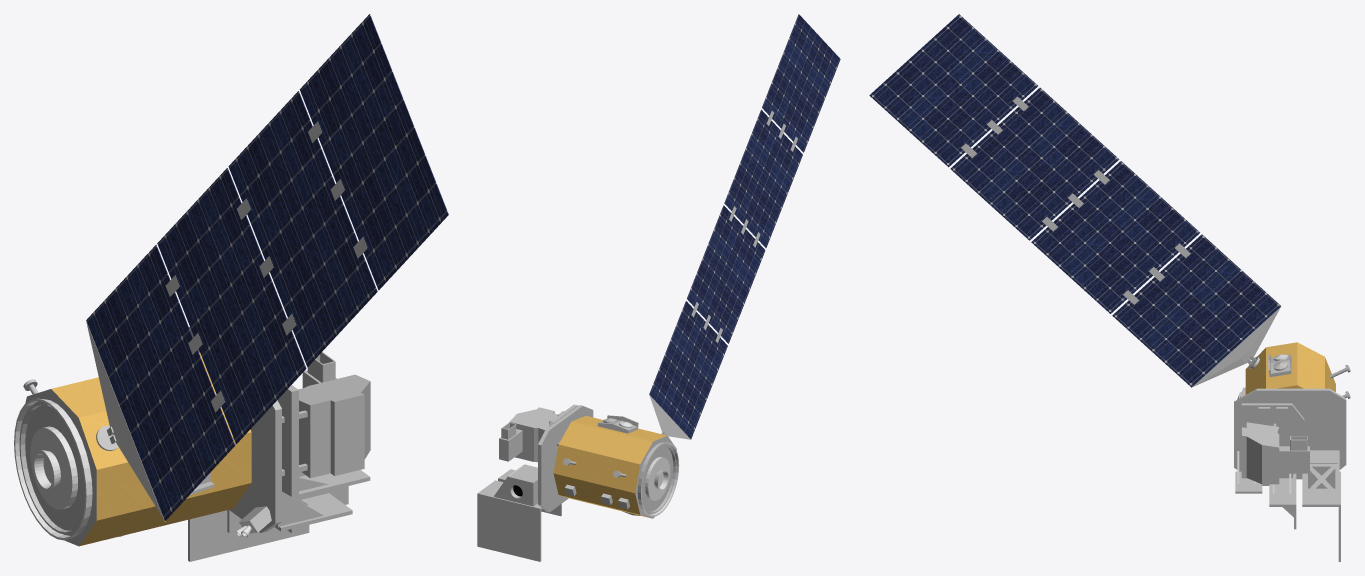
Rendered from landsat.glb.
The picture shows the model from 3 angles, left to right: view 1: azimuth 30°, elevation 25°; view 2: azimuth 150°, elevation 25°; view 3: azimuth 270°, elevation 25°; orthographic projection. The views are drawn at different scales.
Visible parts, largest first — view 1: Cube.009, Cylinder, Cube.017, Cube, Cube.005, Cylinder.011, Cylinder.009, Cube.007, Cube.020, Cube.039, Cube.001, Cylinder.008 (+6 smaller); view 2: Cube.009, Cylinder, Cube.005, Cube, Cube.017, Cube.016, Cylinder.011, Cylinder.009, Cube.007, Cube.018, Cube.039; view 3: Cube.009, Cube, Cylinder, Cube.017, Cube.020, Cube.007, Cube.039, Cube.016, Cube.018, Cube.008, Cube.002.
Boxes of the visible parts, <box> form: Cube.009: <box>86,14,448,520</box>; Cylinder: <box>25,352,251,546</box>; Cube.017: <box>298,374,370,478</box>; Cube: <box>189,327,281,532</box>; Cube.005: <box>188,510,309,561</box>; Cylinder.011: <box>30,426,77,509</box>; Cylinder.009: <box>14,398,92,540</box>; Cube.007: <box>86,321,165,521</box>; Cube.020: <box>277,385,298,533</box>; Cube.039: <box>165,121,367,412</box>; Cube.001: <box>275,493,352,531</box>; Cylinder.008: <box>19,403,84,534</box>; Cube.009: <box>649,14,840,439</box>; Cylinder: <box>553,416,676,518</box>; Cube.005: <box>477,493,541,561</box>; Cube: <box>538,405,593,512</box>; Cube.017: <box>509,407,557,462</box>; Cube.016: <box>494,464,537,506</box>; Cylinder.011: <box>645,457,670,500</box>; Cylinder.009: <box>637,442,679,516</box>; Cube.007: <box>649,395,690,439</box>; Cube.018: <box>499,429,522,461</box>; Cube.039: <box>691,110,797,342</box>; Cube.009: <box>869,14,1280,387</box>; Cube: <box>1234,388,1346,479</box>; Cylinder: <box>1245,342,1335,394</box>; Cube.017: <box>1242,422,1279,484</box>; Cube.020: <box>1241,403,1304,485</box>; Cube.007: <box>1191,307,1280,387</box>; Cube.039: <box>961,96,1190,304</box>; Cube.016: <box>1303,450,1339,496</box>; Cube.018: <box>1279,446,1309,473</box>; Cube.008: <box>1305,464,1337,496</box>; Cube.002: <box>1269,473,1296,506</box>.
Size of the model in its own units: 0.8848 by 2.27 by 2.1.
5 materials, 2 textured.
